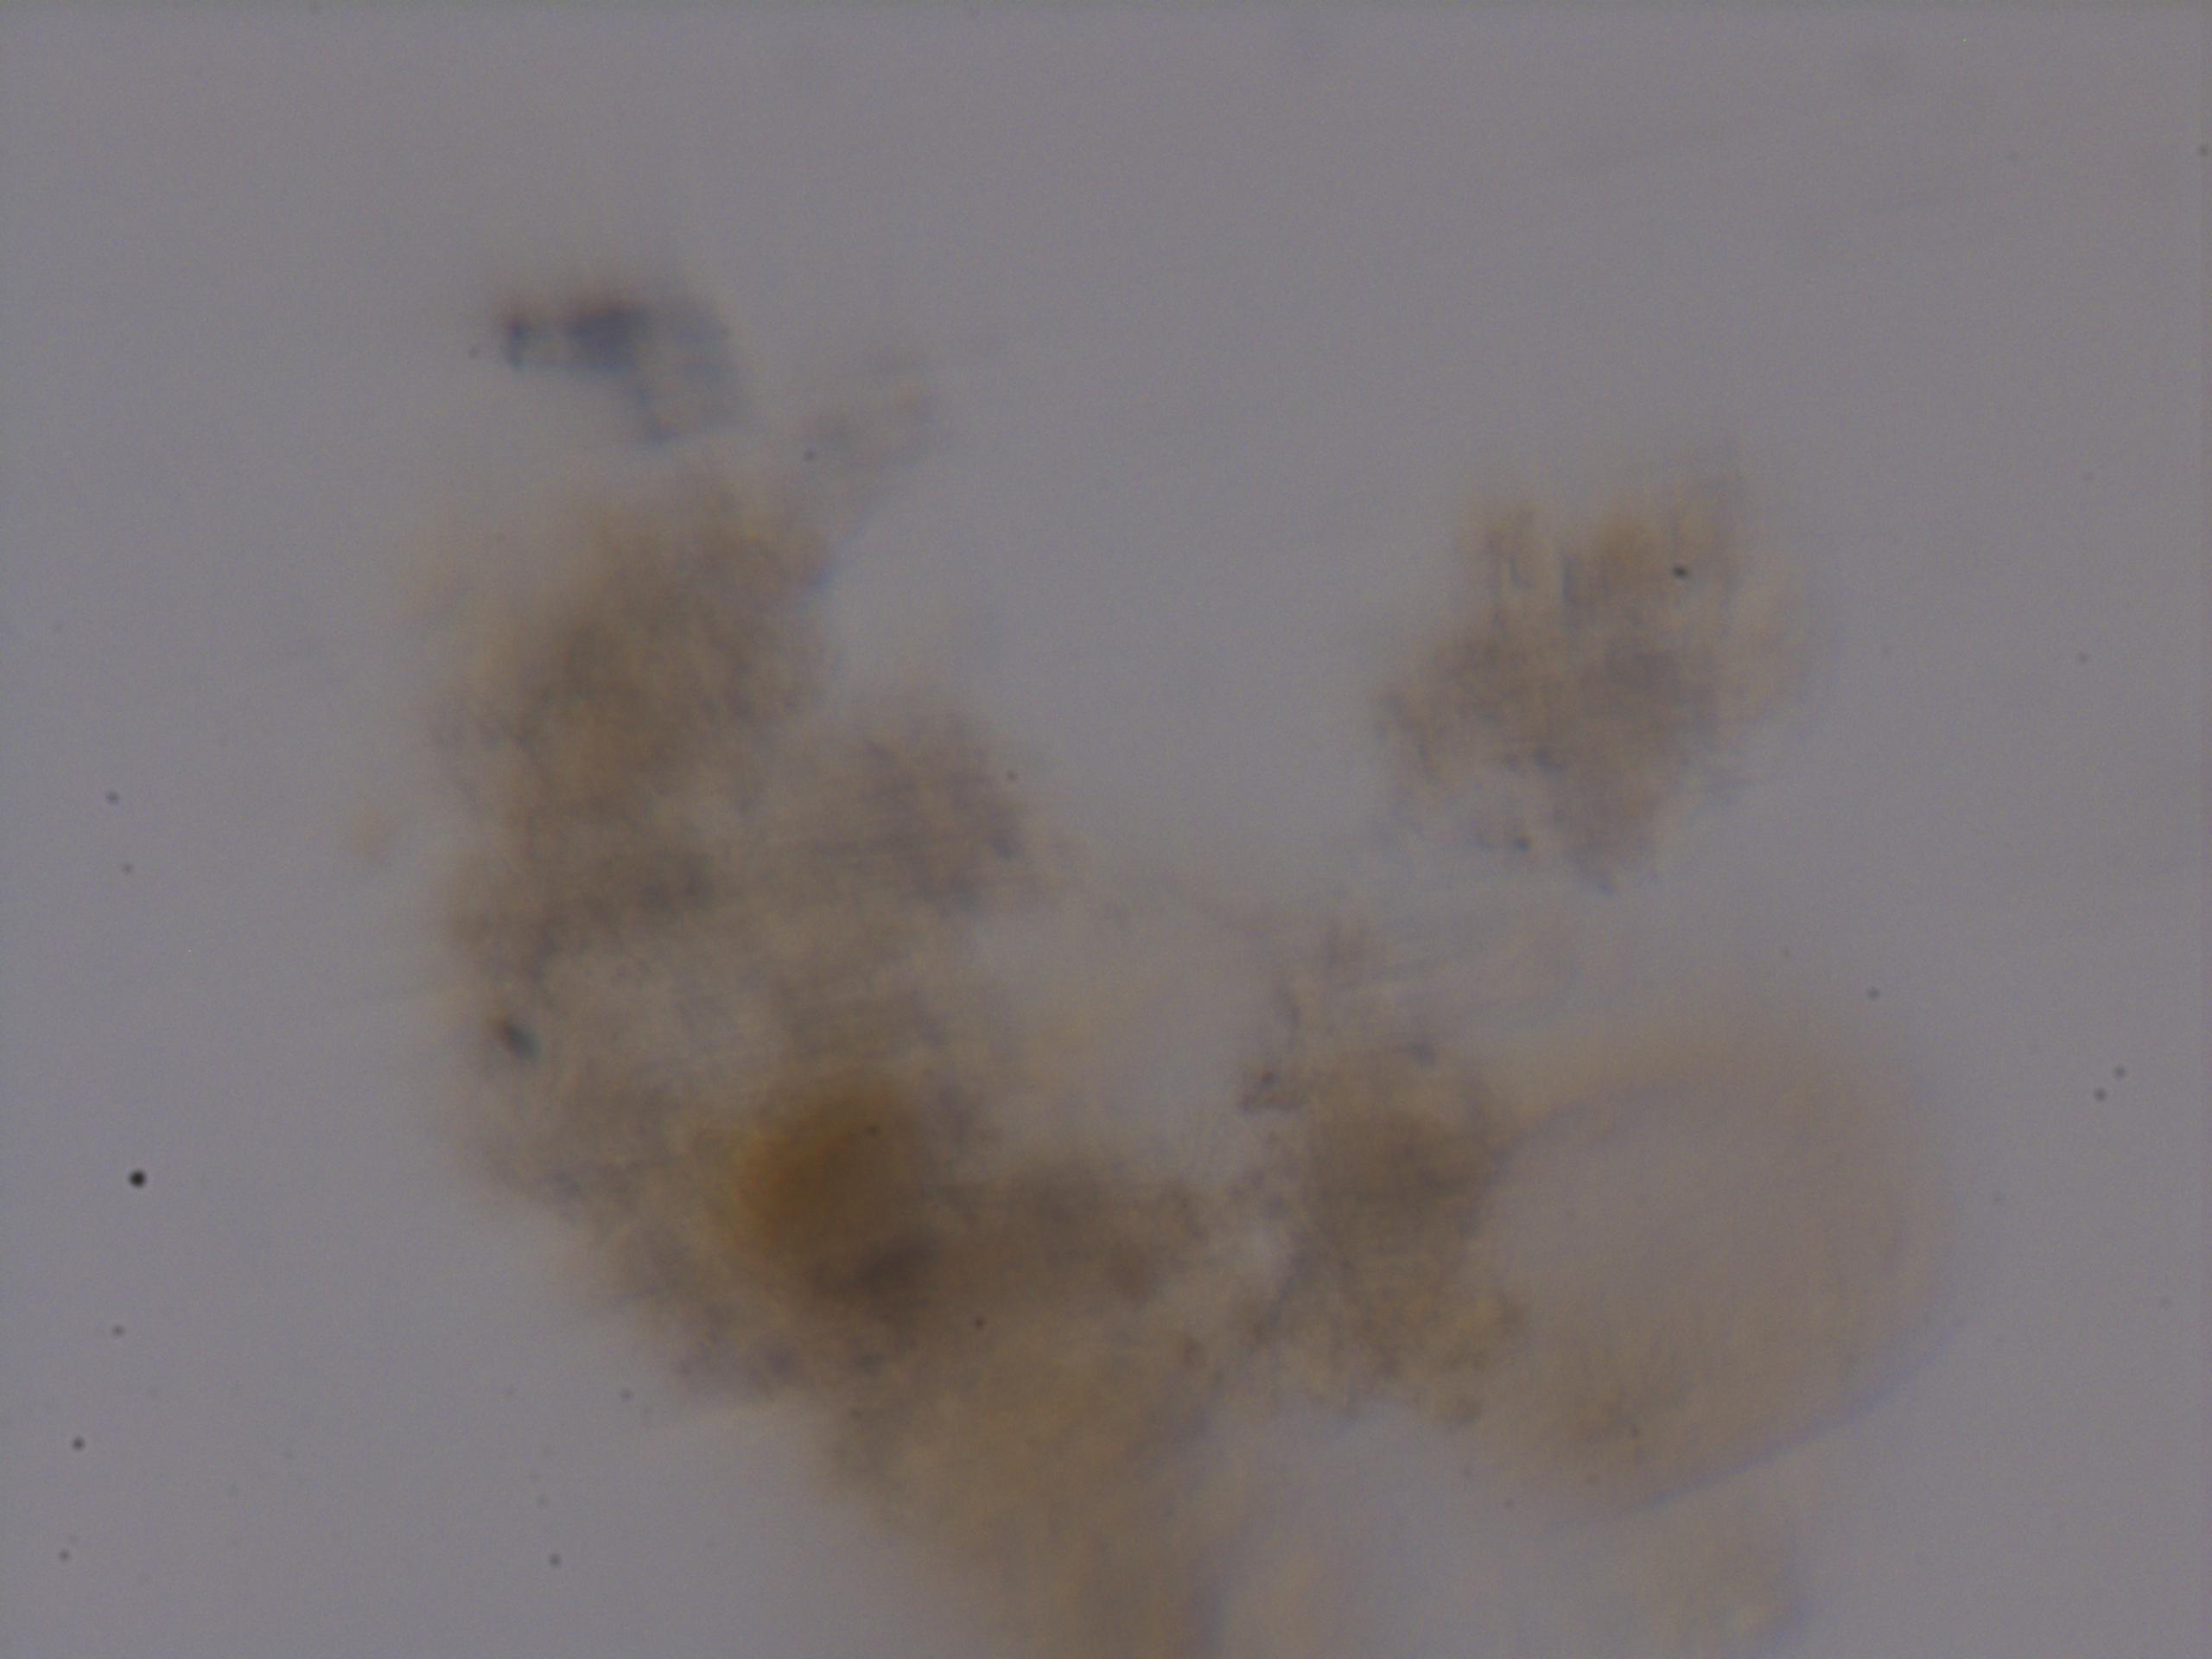open_floc: (425, 429, 1791, 1659)
